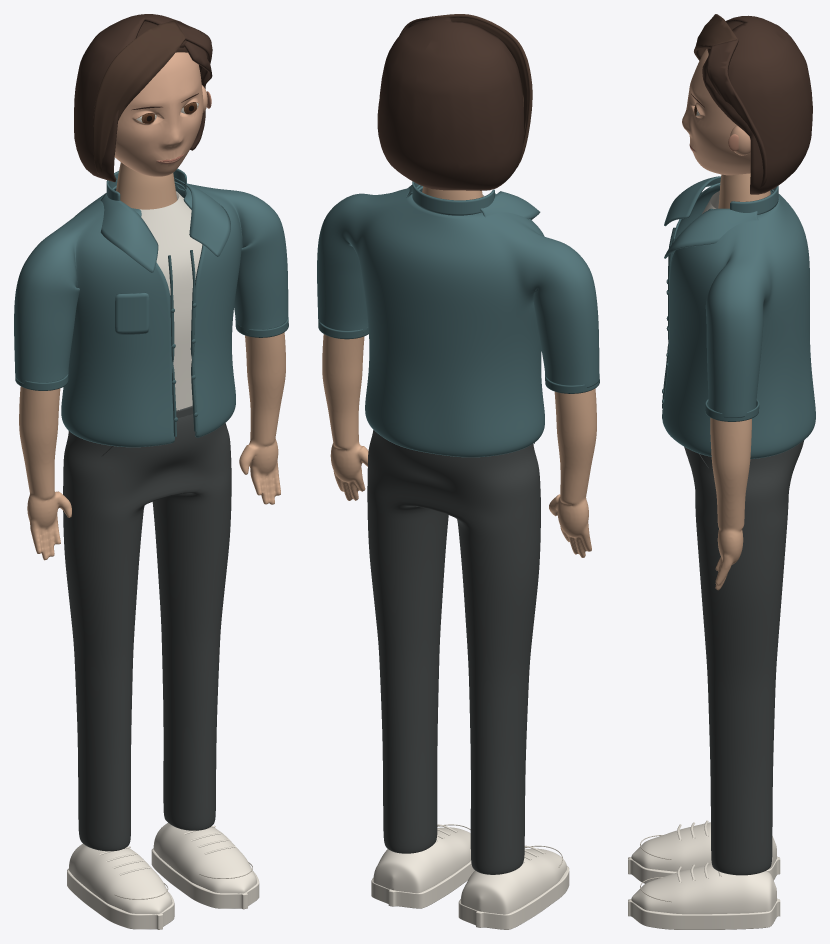
Rendered from female-base-e.glb.
3 views of the same model, side by side, from view 1: azimuth 30°, elevation 25°; view 2: azimuth 150°, elevation 25°; view 3: azimuth 270°, elevation 25° (orthographic). The views are drawn at different scales.
Parts seen in each view (by area): view 1: E export 11, E export 28, E export 40, E export 5, E export 47, E export 10, E export 30, E export 45, E export 38, E export 32, E export 37, E export 0 (+7 smaller); view 2: E export 28, E export 11, E export 47, E export 5, E export 10, E export 32, E export 38, E export 20, E export 45, E export 17, E export 14, E export 37; view 3: E export 28, E export 11, E export 47, E export 38, E export 10, E export 40, E export 32, E export 17, E export 46, E export 2, E export 0, E export 37 (+4 smaller).
Part boxes in pixels (x1=…): E export 11: x1=63, y1=414, x2=231, y2=851; E export 28: x1=14, y1=181, x2=288, y2=447; E export 40: x1=114, y1=52, x2=203, y2=176; E export 5: x1=19, y1=386, x2=71, y2=560; E export 47: x1=74, y1=14, x2=212, y2=182; E export 10: x1=239, y1=332, x2=285, y2=504; E export 30: x1=140, y1=191, x2=202, y2=410; E export 45: x1=93, y1=20, x2=185, y2=173; E export 38: x1=153, y1=823, x2=256, y2=893; E export 32: x1=68, y1=844, x2=172, y2=914; E export 37: x1=100, y1=193, x2=158, y2=272; E export 0: x1=116, y1=161, x2=177, y2=209; E export 28: x1=317, y1=186, x2=599, y2=457; E export 11: x1=367, y1=430, x2=540, y2=874; E export 47: x1=379, y1=17, x2=523, y2=190; E export 5: x1=549, y1=388, x2=596, y2=557; E export 10: x1=322, y1=334, x2=368, y2=500; E export 32: x1=460, y1=848, x2=566, y2=914; E export 38: x1=373, y1=827, x2=470, y2=893; E export 20: x1=458, y1=865, x2=569, y2=929; E export 45: x1=430, y1=14, x2=532, y2=168; E export 17: x1=371, y1=861, x2=474, y2=908; E export 14: x1=412, y1=181, x2=494, y2=215; E export 37: x1=480, y1=191, x2=540, y2=219; E export 28: x1=662, y1=182, x2=815, y2=459; E export 11: x1=684, y1=440, x2=804, y2=875; E export 47: x1=702, y1=15, x2=812, y2=194; E export 38: x1=631, y1=864, x2=776, y2=914; E export 10: x1=710, y1=418, x2=751, y2=590; E export 40: x1=682, y1=49, x2=750, y2=175; E export 32: x1=631, y1=822, x2=776, y2=871; E export 17: x1=628, y1=898, x2=780, y2=929; E export 46: x1=706, y1=39, x2=767, y2=193; E export 2: x1=664, y1=208, x2=758, y2=258; E export 0: x1=718, y1=173, x2=770, y2=208; E export 37: x1=664, y1=176, x2=720, y2=226.
Bounding box in the file's own units: 0.5586 × 1.72 × 0.3352.
